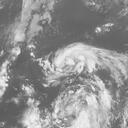cyclone: (30, 41, 116, 120)
